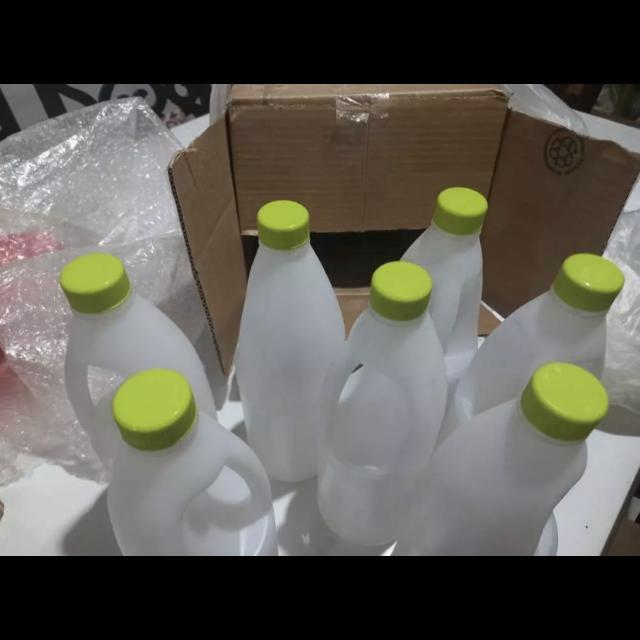cardboard: (169, 84, 640, 374)
plastic_bottle: (391, 362, 610, 556), (318, 261, 449, 548), (59, 253, 220, 477), (440, 255, 624, 440), (233, 200, 346, 487), (107, 369, 278, 556), (401, 188, 489, 387)
